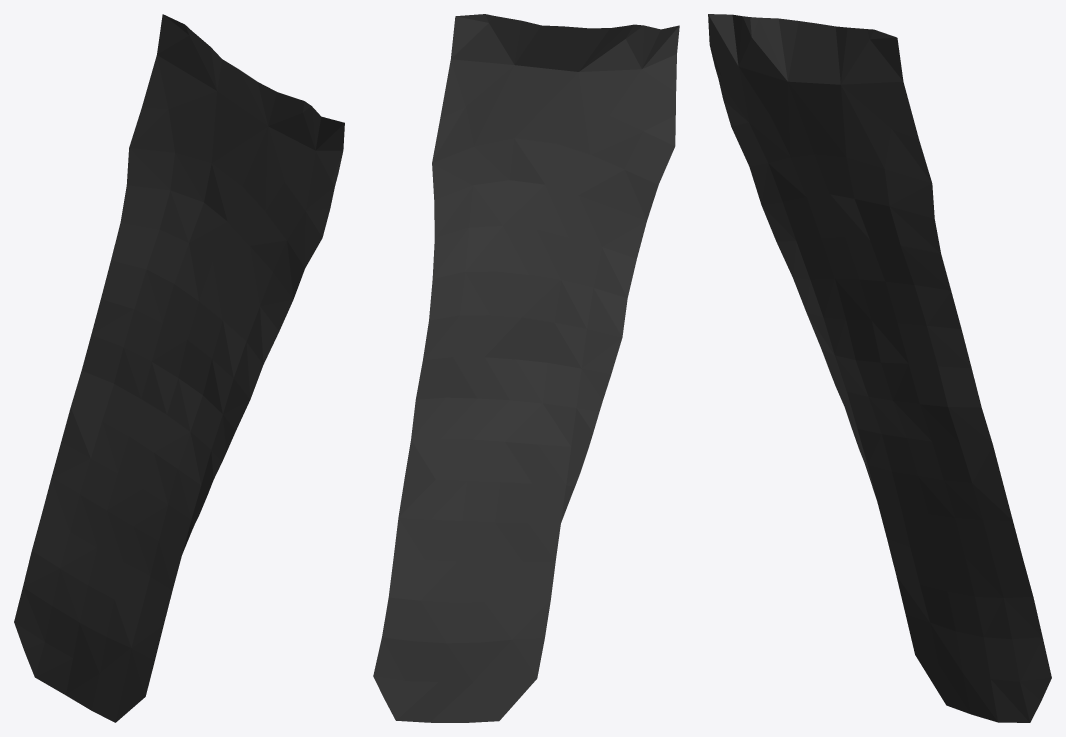
File: eq_dist_limb_Straight_Sesamoidean_Lig.glb
3 views of the same model, side by side, from view 1: azimuth 90°, elevation 25°; view 2: azimuth 150°, elevation 25°; view 3: azimuth 270°, elevation 25° (orthographic). The views are drawn at different scales.
Parts seen in each view (by area): view 1: eq_dist_limb_Straight_Sesamoidean_Lig; view 2: eq_dist_limb_Straight_Sesamoidean_Lig; view 3: eq_dist_limb_Straight_Sesamoidean_Lig.
Part boxes in pixels (box(x1,y1,x2,y2)): eq_dist_limb_Straight_Sesamoidean_Lig: box(14, 14, 344, 722); eq_dist_limb_Straight_Sesamoidean_Lig: box(373, 14, 679, 722); eq_dist_limb_Straight_Sesamoidean_Lig: box(708, 14, 1051, 722).
Bounding box in the file's own units: 0.000973 × 0.00419 × 0.00186.
Materials: 1 (1 with a texture image).
